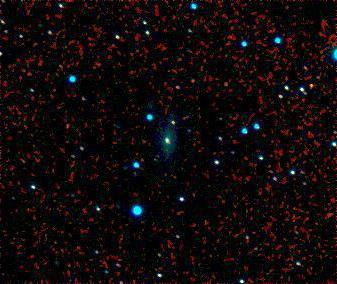star: (296, 71, 326, 101)
